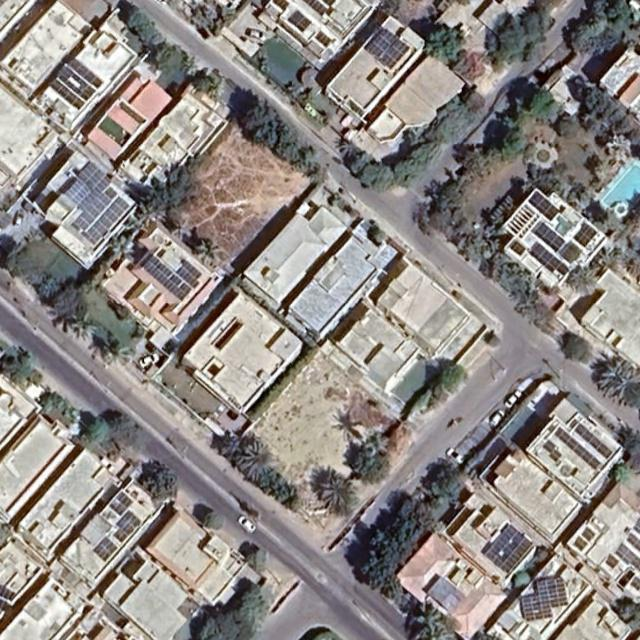solar panel: (66, 162, 118, 232), (484, 523, 534, 573), (81, 196, 129, 245), (144, 255, 192, 302), (520, 577, 568, 620), (364, 27, 411, 70), (556, 427, 602, 470), (570, 419, 612, 459), (57, 66, 96, 102), (529, 242, 570, 275), (50, 78, 86, 111), (69, 58, 103, 88), (114, 510, 143, 544), (528, 191, 560, 221), (535, 223, 566, 253), (176, 259, 203, 289), (617, 544, 639, 572), (94, 537, 118, 562), (108, 491, 133, 515), (287, 10, 313, 33), (574, 222, 597, 247), (560, 241, 582, 264), (542, 439, 562, 460), (303, 0, 327, 16), (509, 241, 526, 256), (316, 31, 331, 47), (606, 553, 620, 570), (627, 533, 639, 552), (574, 536, 588, 552), (583, 527, 597, 542)
